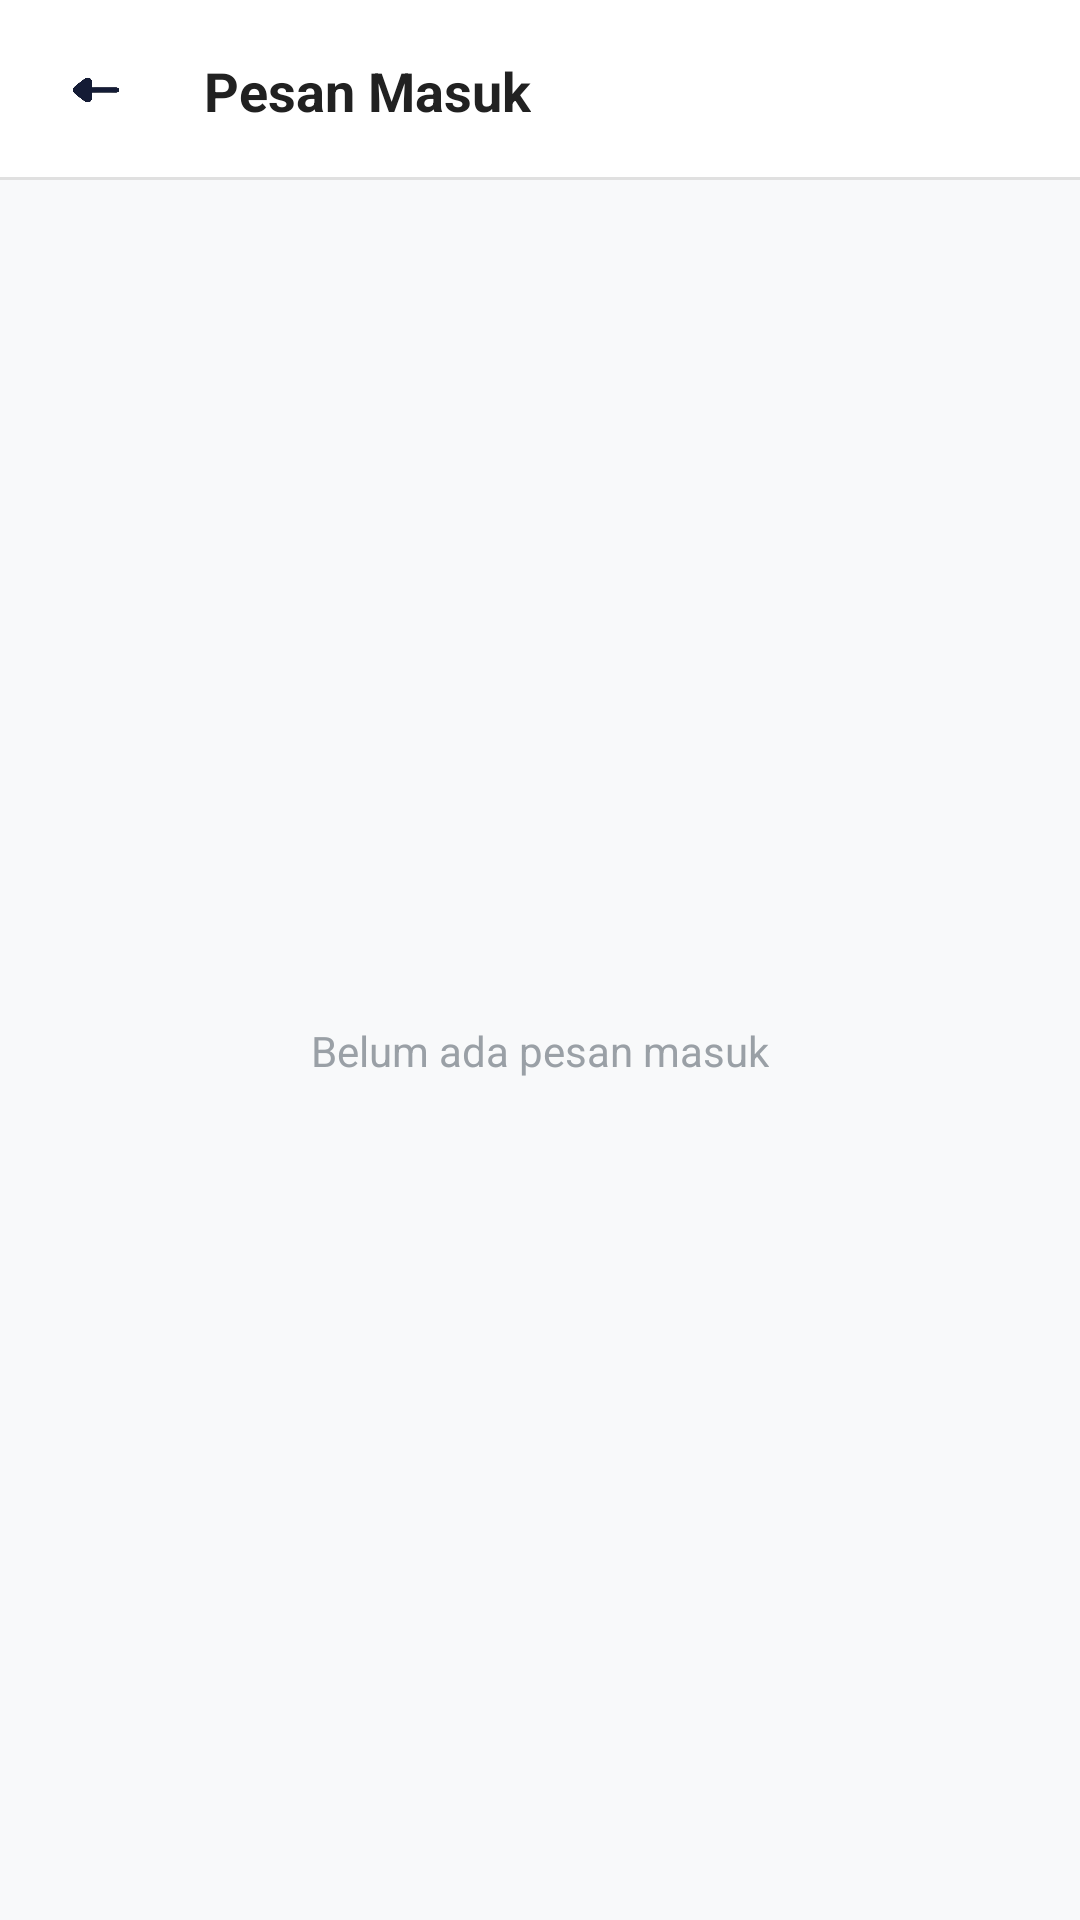

Icon bounding boxes for this 1080*1920 phone screenshot, format region(x1, y1, x2, y2):
arrow back: region(73, 78, 119, 102)
